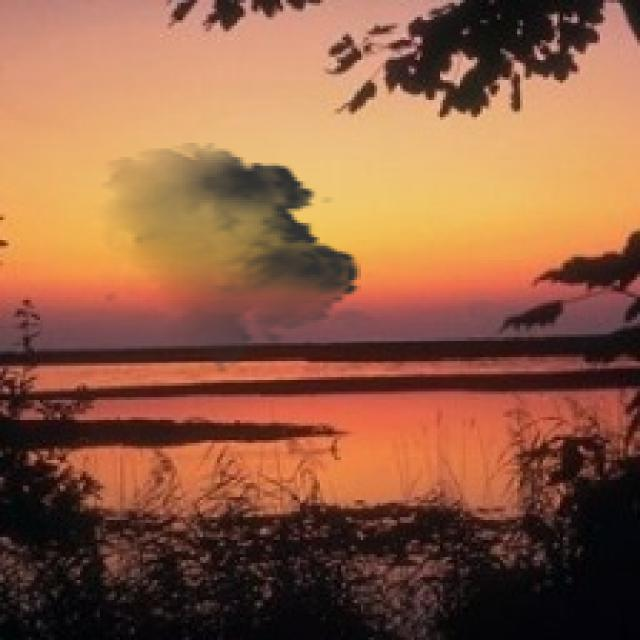Smoke: (88, 143, 372, 374)
